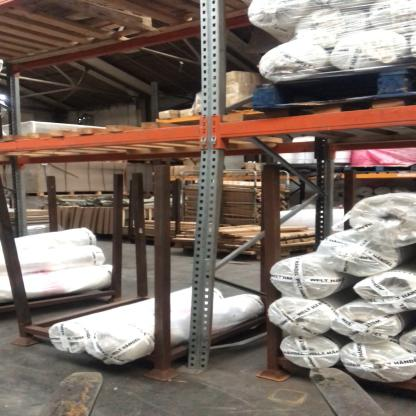vertical_damage: (180, 346, 220, 380)
